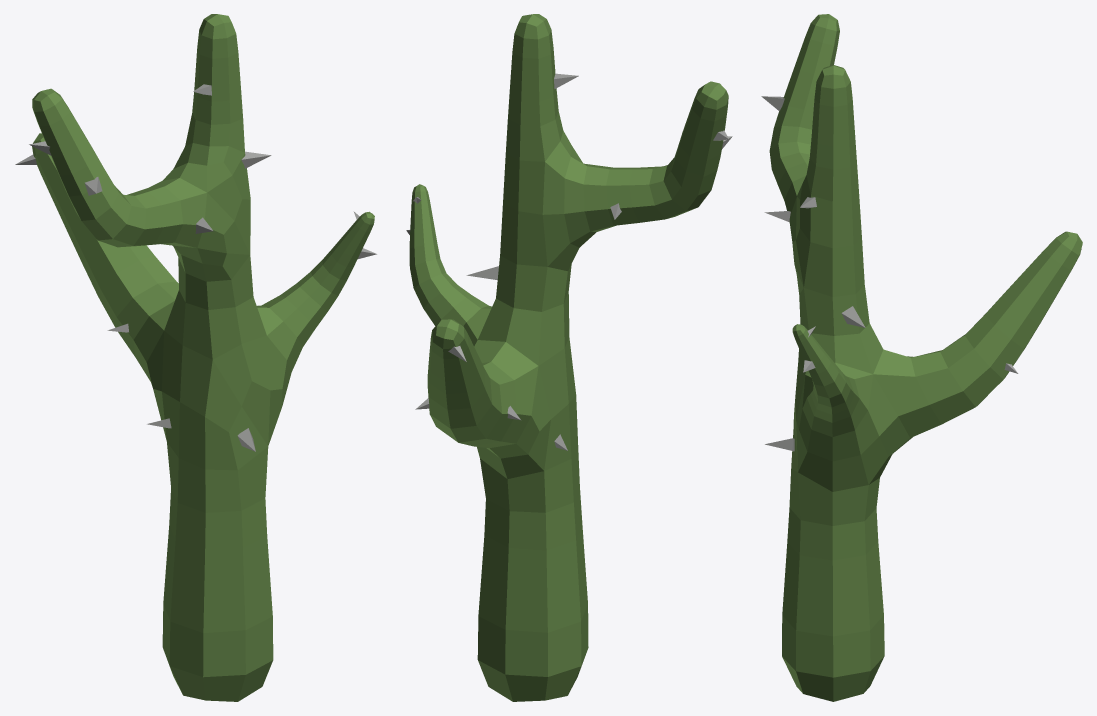
Rendered from cacto.fbx.
3 renders of one model, left to right at view 1: azimuth 30°, elevation 25°; view 2: azimuth 150°, elevation 25°; view 3: azimuth 270°, elevation 25°, orthographic. The views are drawn at different scales.
Parts seen in each view (by area): view 1: Cone; view 2: Cone; view 3: Cone.
Part boxes in pixels (left/top/right/bottom): Cone: left=15, top=14, right=376, bottom=701; Cone: left=406, top=14, right=732, bottom=701; Cone: left=761, top=14, right=1082, bottom=701.
Bounding box in the file's own units: 226 × 440 × 203.
